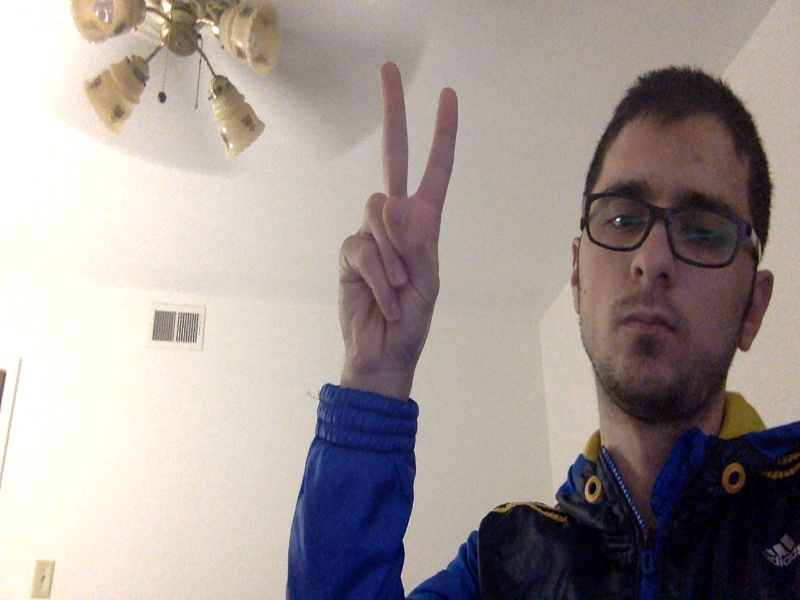2-hand: (337, 62, 455, 385)
